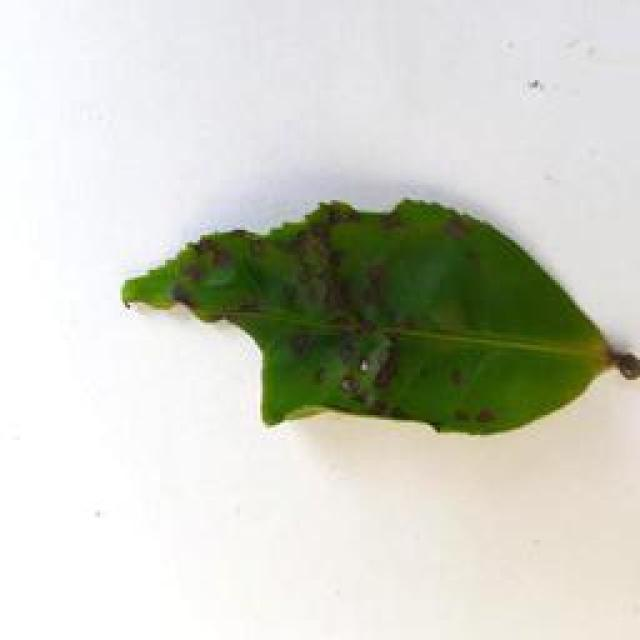Helopeltis: (122, 191, 640, 446)
